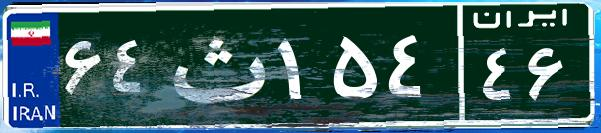1: (273, 28, 330, 110)
4: (385, 28, 445, 110), (475, 38, 525, 113), (110, 28, 158, 105)
5: (330, 28, 385, 110)
6: (57, 26, 110, 107), (525, 38, 570, 115)
ث: (158, 15, 273, 115)
